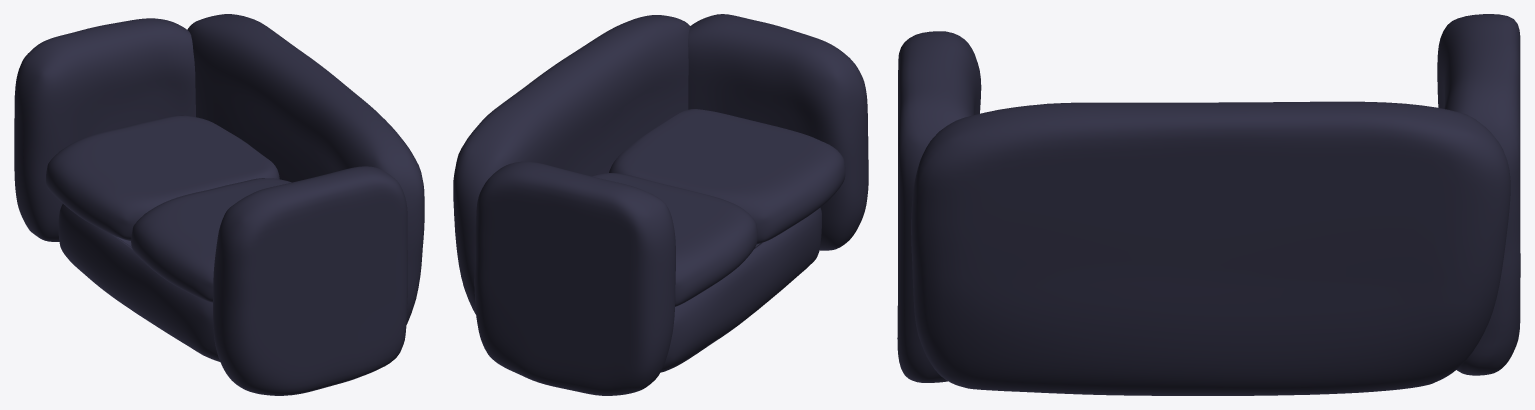
The model's file is Couch.fbx.
The picture shows the model from 3 angles, left to right: view 1: azimuth 30°, elevation 25°; view 2: azimuth 150°, elevation 25°; view 3: azimuth 270°, elevation 25°; orthographic projection. The views are drawn at different scales.
Parts seen in each view (by area): view 1: Sphere.015, Sphere.012, Sphere.017; view 2: Sphere.015, Sphere.017, Sphere.012; view 3: Sphere.015.
Part boxes in pixels (x1,y1,x2,y2): Sphere.015: (14,14,424,395); Sphere.012: (46,115,279,240); Sphere.017: (131,178,291,302); Sphere.015: (453,14,868,395); Sphere.017: (609,109,845,244); Sphere.012: (591,173,757,306); Sphere.015: (897,14,1520,395).
Size of the model in its own units: 286 by 278 by 511.
